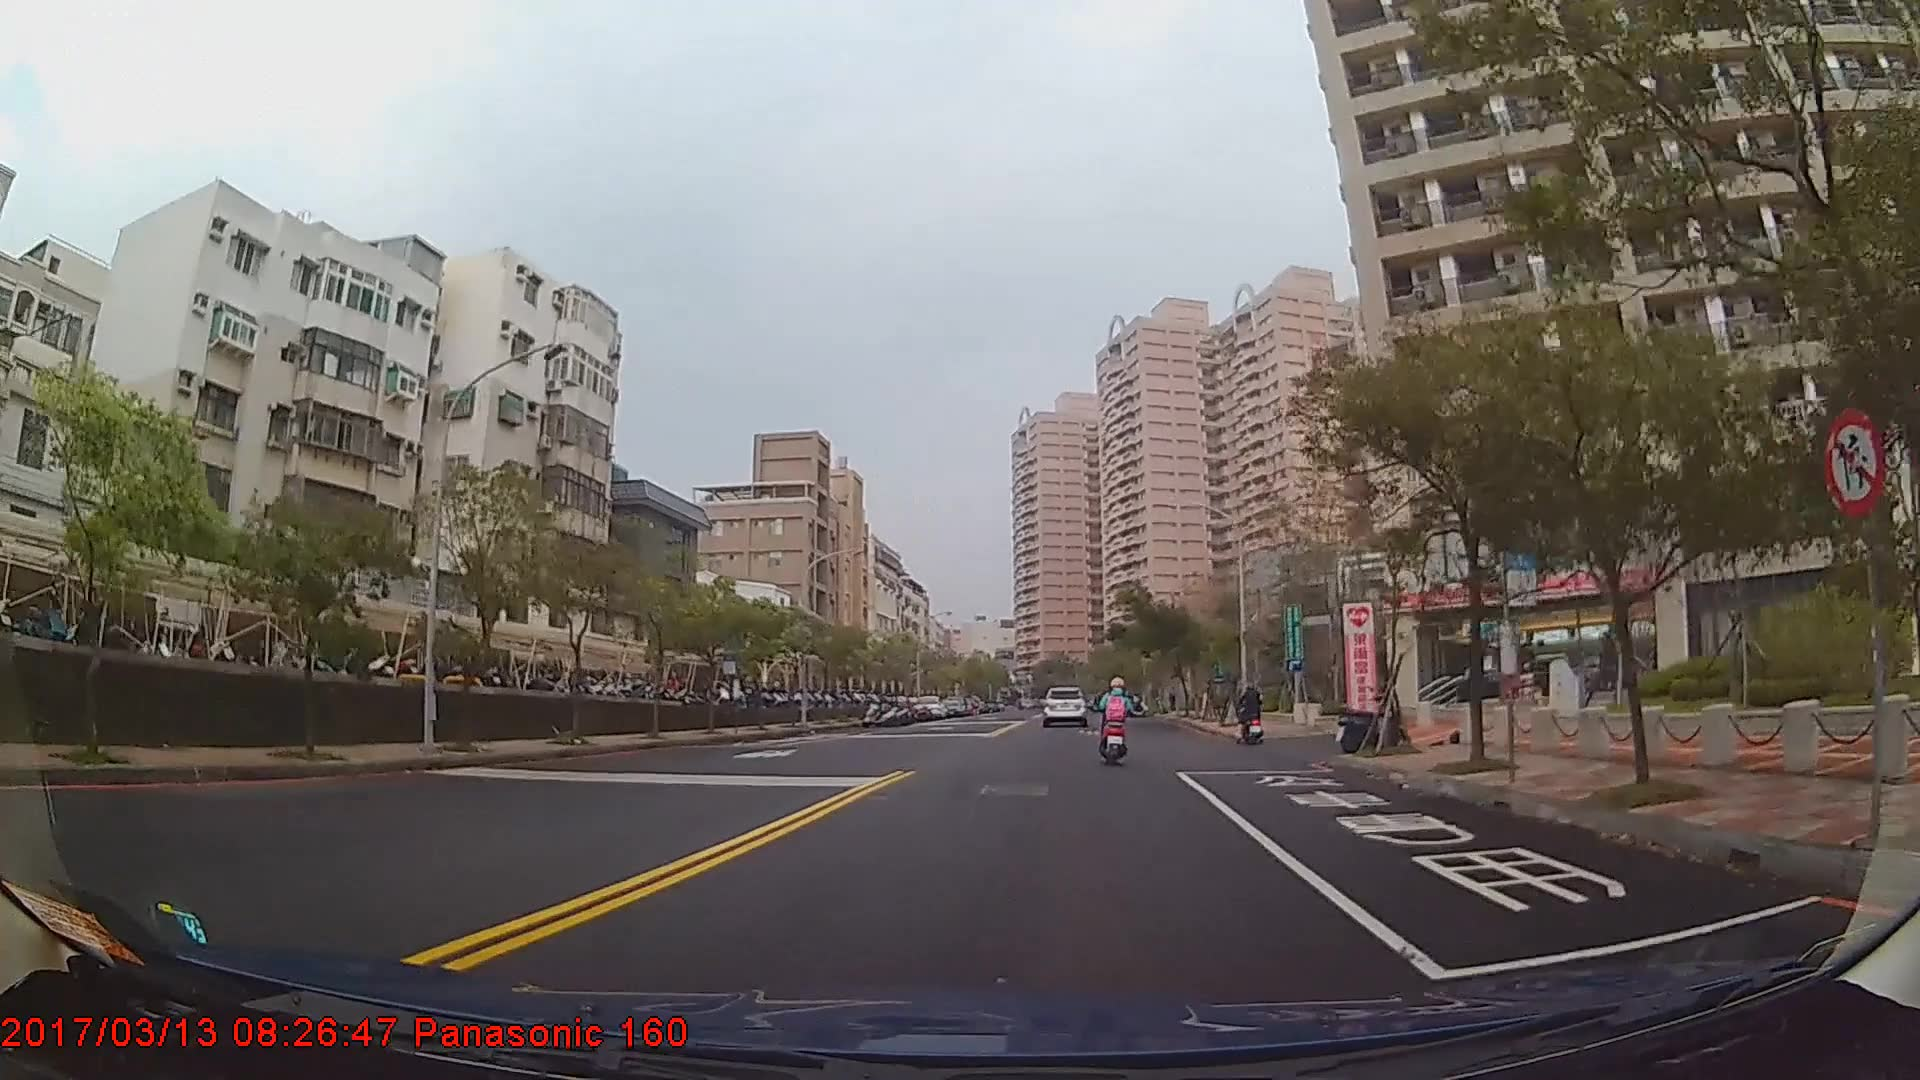rider: (1095, 679, 1137, 762), (1236, 684, 1264, 749)
vehicle: (1038, 687, 1088, 730), (910, 696, 945, 722)
